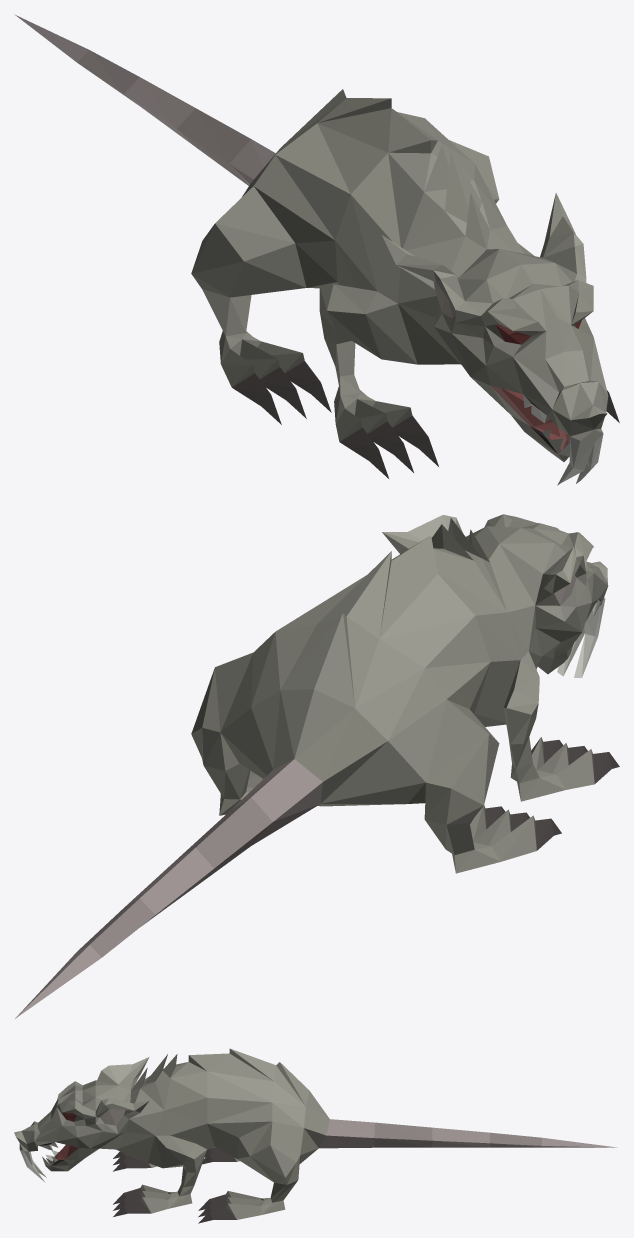
The model's file is rat.gltf.
3 views of the same model, one above another, from view 1: azimuth 30°, elevation 25°; view 2: azimuth 150°, elevation 25°; view 3: azimuth 270°, elevation 25° (orthographic). The views are drawn at different scales.
Bounding box in the file's own units: 98 × 83 × 326.
1 material, 1 textured.
